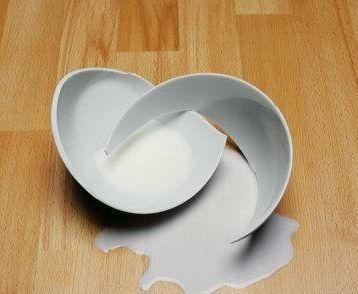ceramics: (47, 63, 296, 249)
